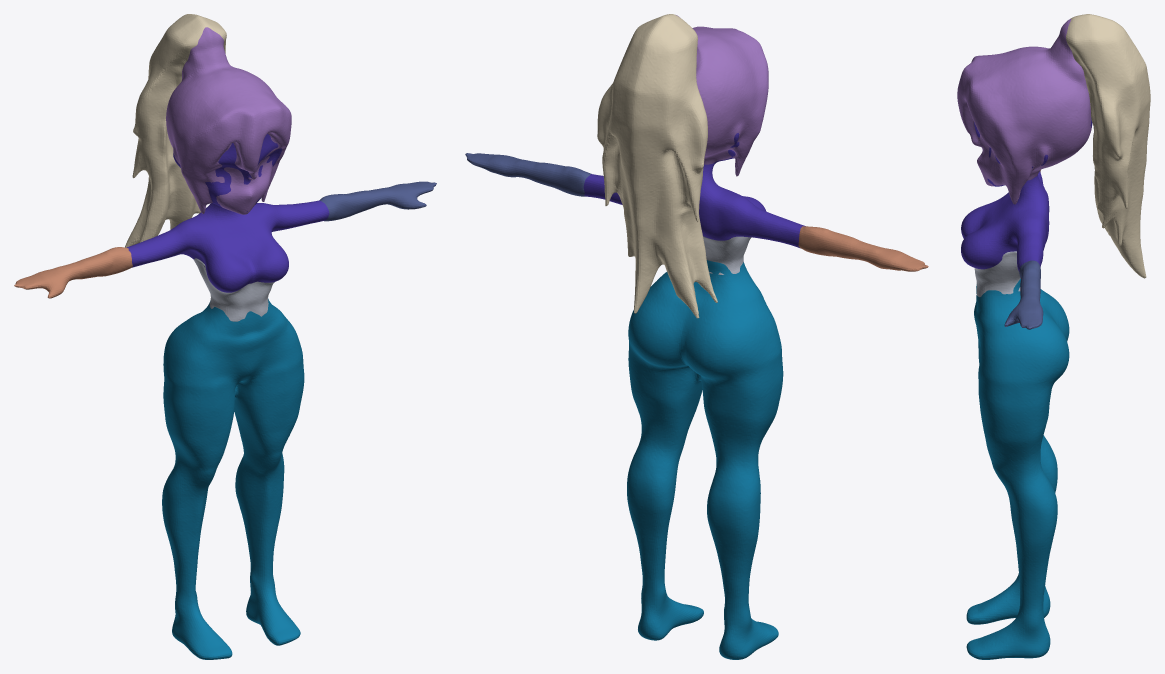
Rendered from train_cfg_-1.000000_dit_boxgpt_jace0_clean_no_droplets.glb.
3 renders of one model, left to right at view 1: azimuth 30°, elevation 25°; view 2: azimuth 150°, elevation 25°; view 3: azimuth 270°, elevation 25°, orthographic. The views are drawn at different scales.
Visible parts, largest first — view 1: tmpswpxp5tt.ply, tmp0h4a0a2v.ply, tmp4qfhcoo6.ply, tmpe6_x0iul.ply, tmpjxcy21uw.ply, tmp9qbo4hji.ply, tmp0kykscv0.ply; view 2: tmpswpxp5tt.ply, tmpe6_x0iul.ply, tmp0h4a0a2v.ply, tmp4qfhcoo6.ply, tmpjxcy21uw.ply, tmp9qbo4hji.ply, tmp0kykscv0.ply; view 3: tmpswpxp5tt.ply, tmp0h4a0a2v.ply, tmpe6_x0iul.ply, tmp4qfhcoo6.ply, tmp9qbo4hji.ply, tmp0kykscv0.ply.
Boxes of the visible parts, x1=… form: tmpswpxp5tt.ply: x1=162, y1=298, x2=304, y2=659; tmp0h4a0a2v.ply: x1=166, y1=27, x2=291, y2=214; tmp4qfhcoo6.ply: x1=126, y1=134, x2=329, y2=292; tmpe6_x0iul.ply: x1=124, y1=14, x2=228, y2=247; tmpjxcy21uw.ply: x1=14, y1=247, x2=132, y2=298; tmp9qbo4hji.ply: x1=320, y1=181, x2=436, y2=221; tmp0kykscv0.ply: x1=193, y1=258, x2=274, y2=321; tmpswpxp5tt.ply: x1=627, y1=260, x2=783, y2=659; tmpe6_x0iul.ply: x1=597, y1=14, x2=717, y2=318; tmp0h4a0a2v.ply: x1=676, y1=15, x2=768, y2=176; tmp4qfhcoo6.ply: x1=583, y1=133, x2=805, y2=248; tmpjxcy21uw.ply: x1=798, y1=226, x2=928, y2=271; tmp9qbo4hji.ply: x1=465, y1=153, x2=591, y2=196; tmp0kykscv0.ply: x1=703, y1=236, x2=751, y2=274; tmpswpxp5tt.ply: x1=966, y1=279, x2=1069, y2=659; tmp0h4a0a2v.ply: x1=957, y1=19, x2=1092, y2=204; tmpe6_x0iul.ply: x1=1066, y1=14, x2=1150, y2=278; tmp4qfhcoo6.ply: x1=961, y1=117, x2=1092, y2=271; tmp9qbo4hji.ply: x1=1004, y1=260, x2=1043, y2=329; tmp0kykscv0.ply: x1=974, y1=251, x2=1020, y2=297.
Bounding box in the file's own units: 1.45 × 1.96 × 0.5511.
